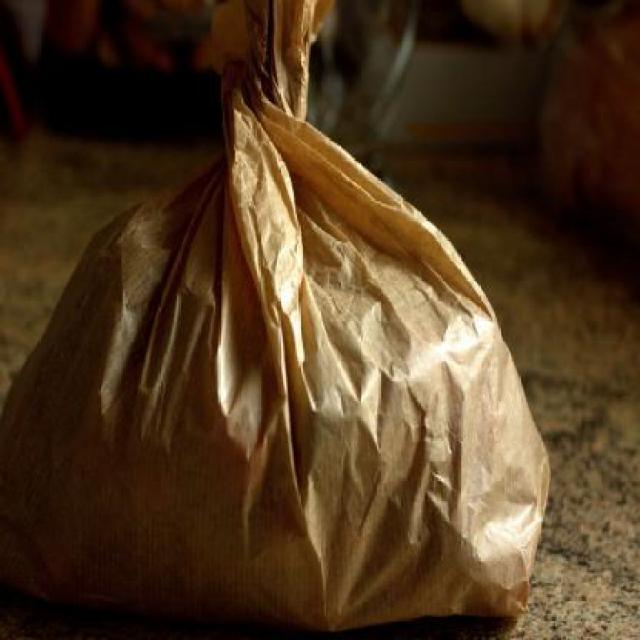plastic bag: (0, 0, 552, 638)
